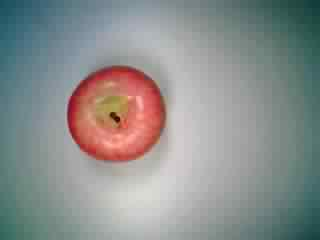apple: (64, 62, 169, 164)
